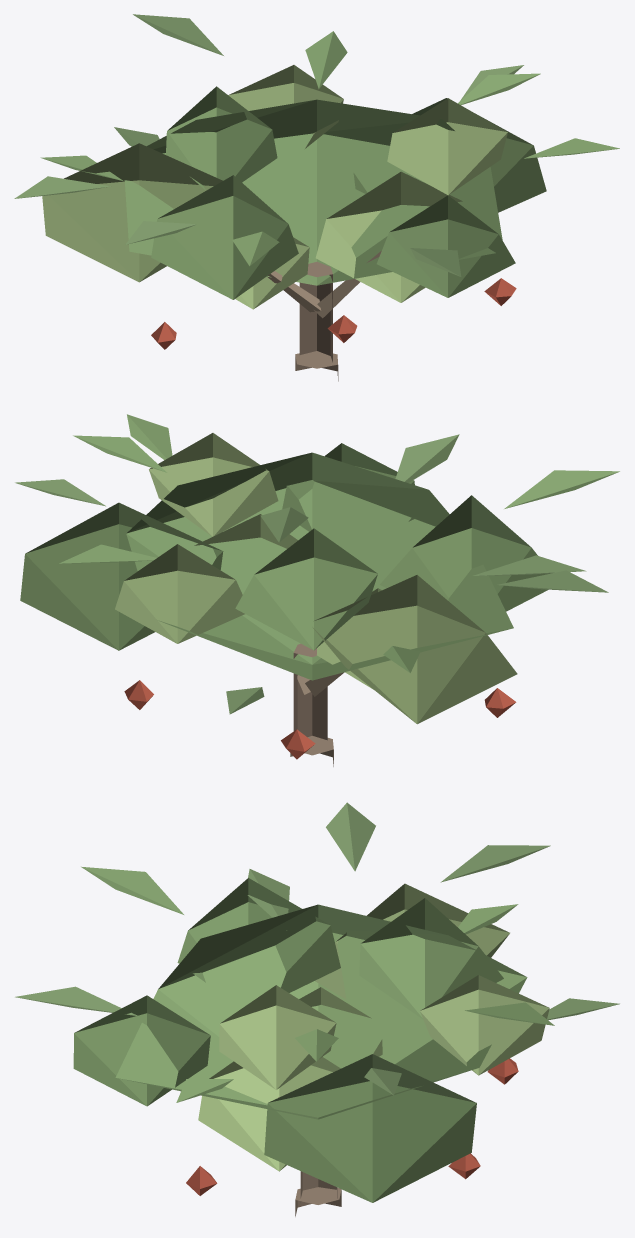
Rendered from shu.cha@fruiting__bloom.glb.
The picture shows the model from 3 angles, top to bottom: view 1: azimuth 30°, elevation 25°; view 2: azimuth 150°, elevation 25°; view 3: azimuth 270°, elevation 25°; orthographic projection. The views are drawn at different scales.
Visible parts, largest first — view 1: shu.cha@fruiting__bloom; view 2: shu.cha@fruiting__bloom; view 3: shu.cha@fruiting__bloom.
Part boxes in pixels (bbox=[...]): shu.cha@fruiting__bloom: bbox=[14, 14, 619, 381]; shu.cha@fruiting__bloom: bbox=[15, 414, 619, 766]; shu.cha@fruiting__bloom: bbox=[15, 802, 619, 1216].
Bounding box in the file's own units: 4.72 × 2.57 × 4.31.
